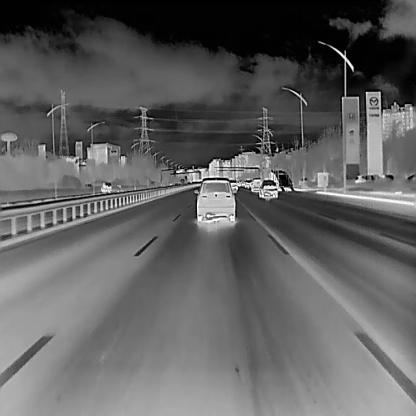car: (193, 176, 236, 223), (266, 168, 294, 192), (258, 177, 278, 198), (353, 172, 380, 184), (250, 176, 262, 192), (296, 176, 311, 186), (99, 180, 111, 192), (228, 178, 238, 190), (243, 177, 253, 188)
